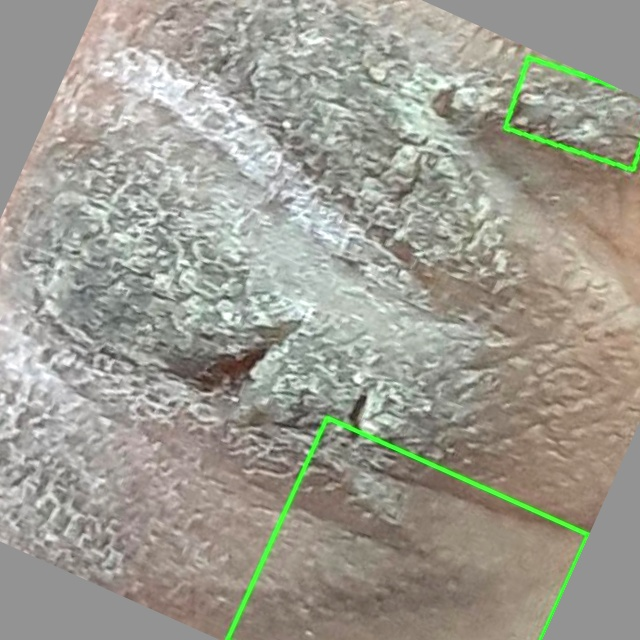Contact Dermatitis: (227, 418, 587, 639), (505, 58, 639, 170)
